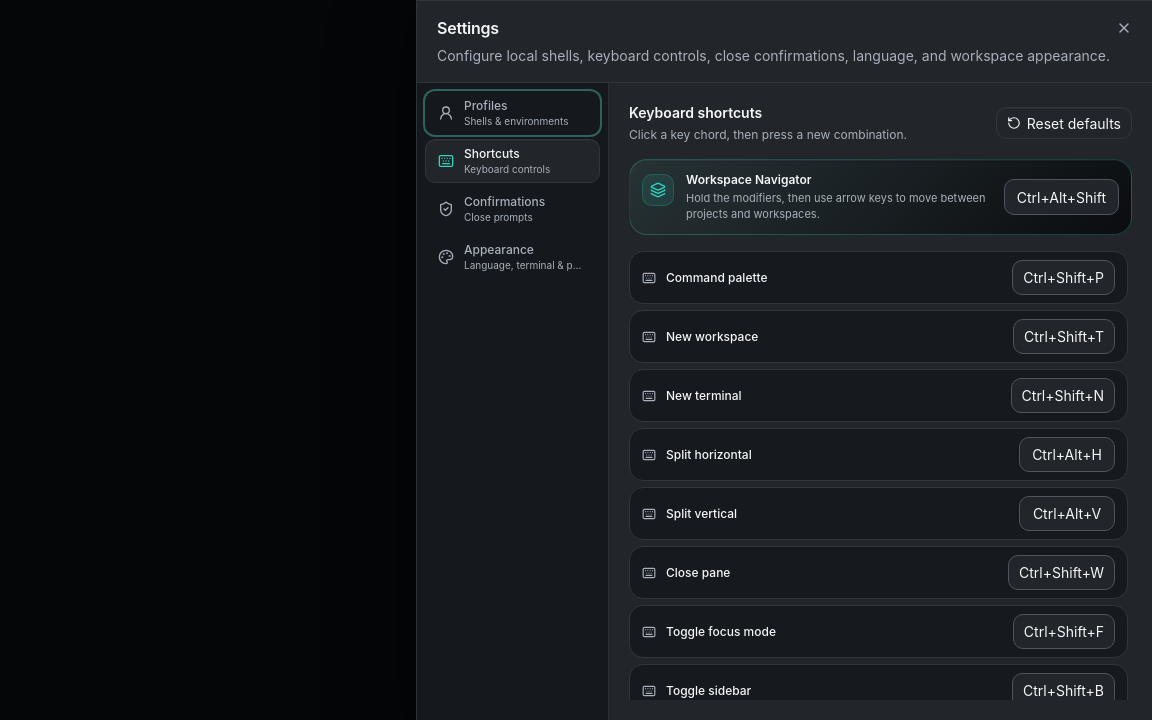
Test: SettingsSheet confirmations › offers English and Turkish in appearance settings
The width and height of the screenshot is (1152, 720).
Click the button "Appearance Language, terminal & panes". click: (512, 257)
box: [425,235,600,279]
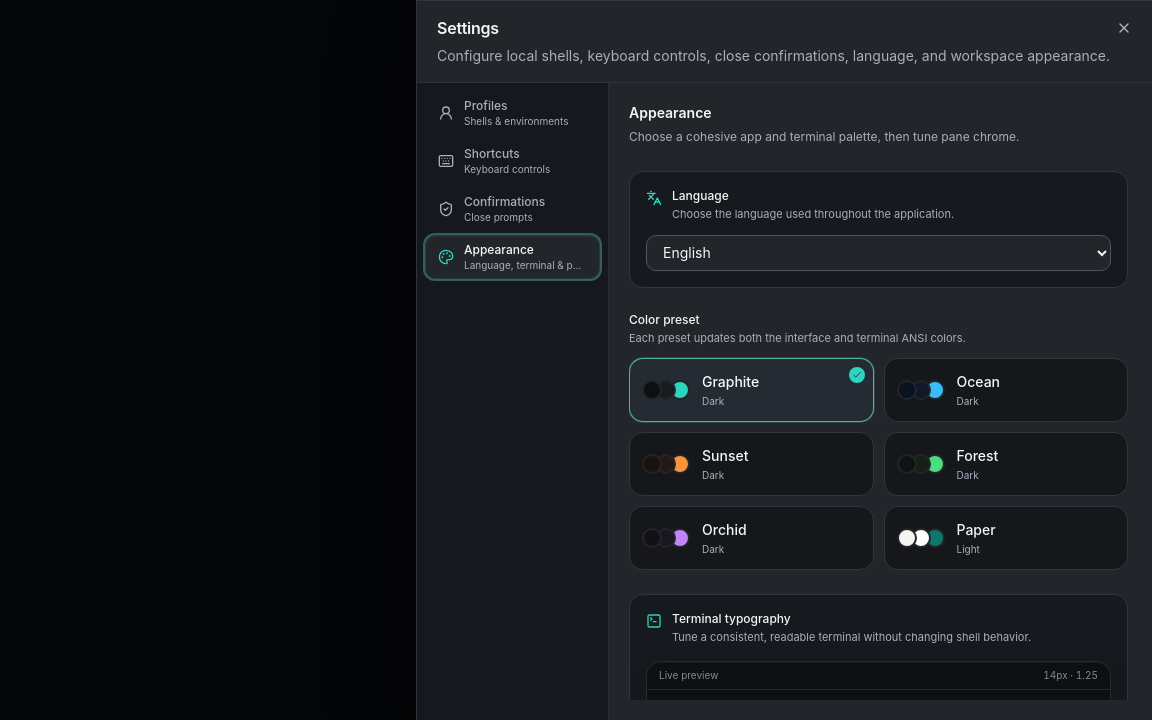
Expected: the dropdown named "application language" is shown, [646,234,1111,270]
